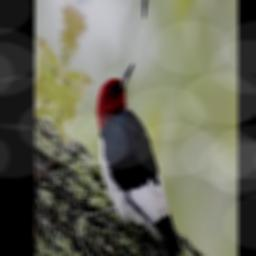Woodpecker: (71, 35, 222, 256)
